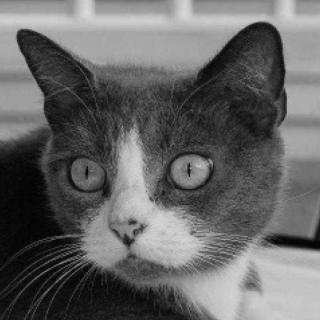cat: (12, 22, 302, 297)
nose: (102, 203, 155, 249)
